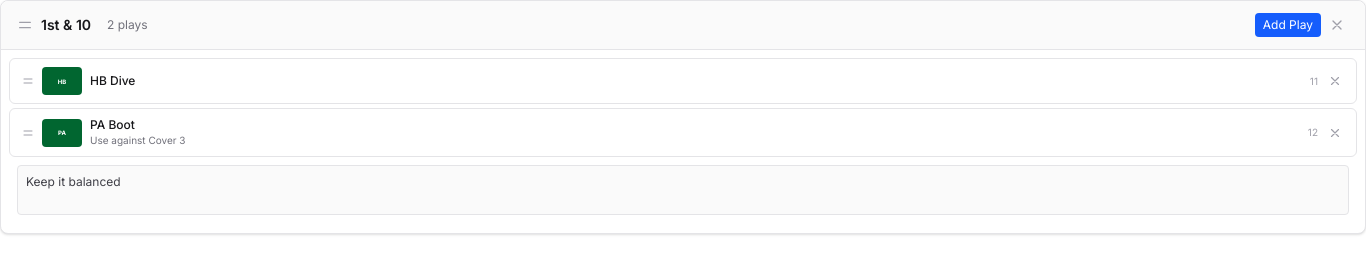
Test: GamePlanSection › reverts situation name on Escape key
Click the button with test id "situation-label": (66,25) [41, 15, 91, 35]
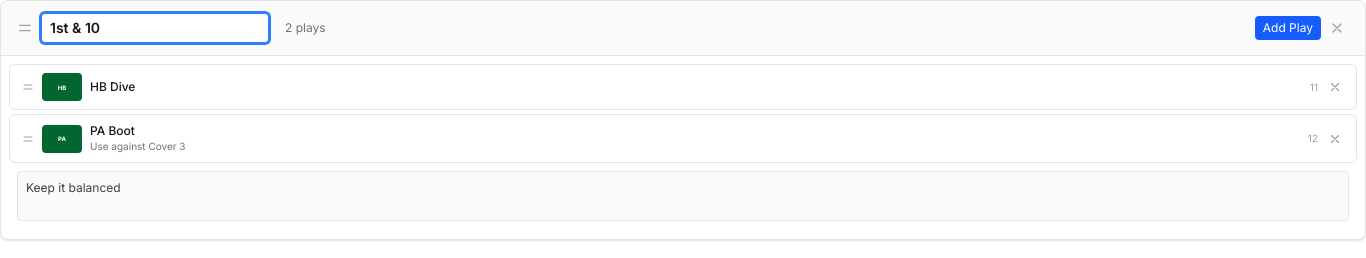
Replace the text in the field with test id "situation-input" with "Something else": (155,28) [41, 13, 269, 43]
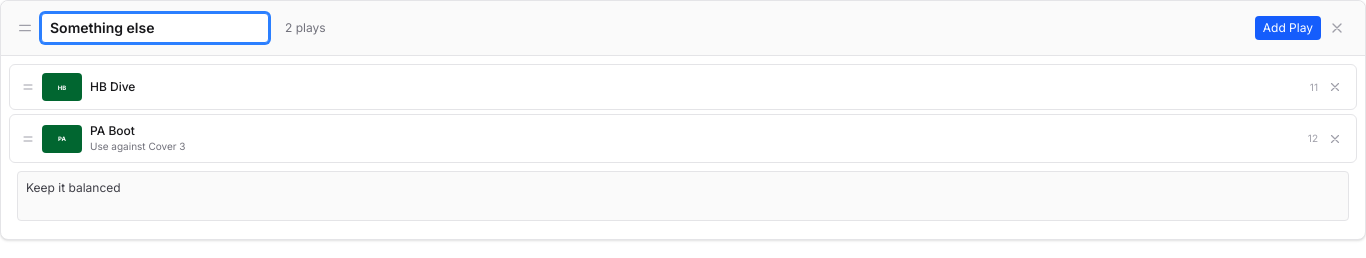
Press Escape
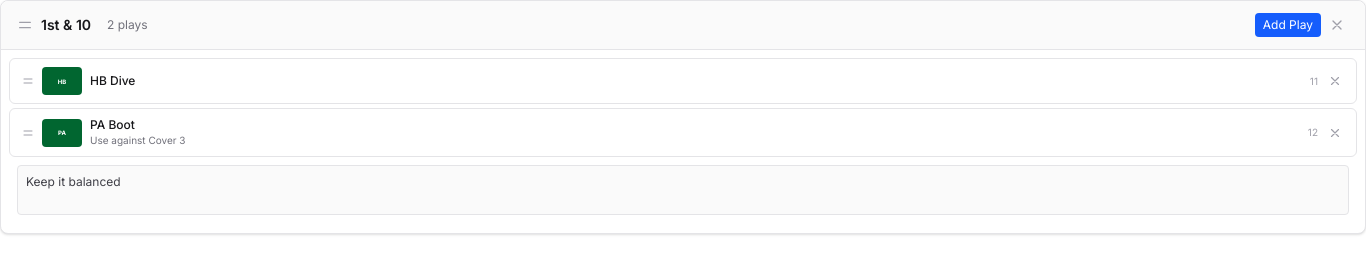
Expected: the button with test id "situation-label" reads "1st & 10", [41, 15, 91, 35]
